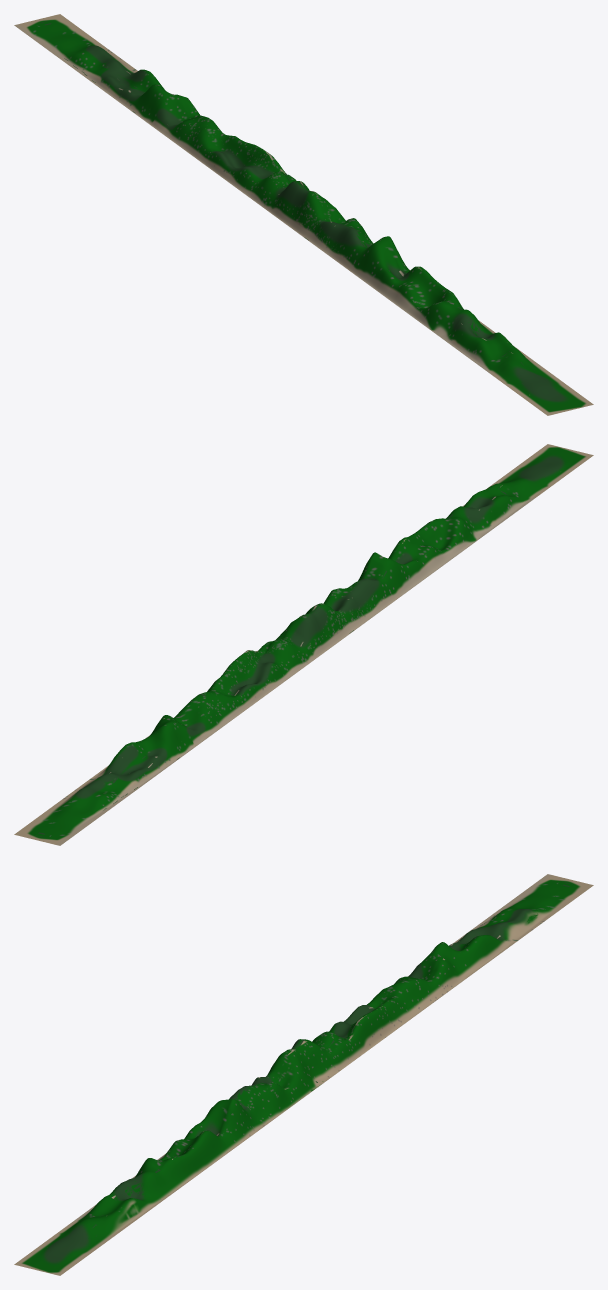
Rendered from mtn1.glb.
3 renders of one model, top to bottom at view 1: azimuth 30°, elevation 25°; view 2: azimuth 150°, elevation 25°; view 3: azimuth 330°, elevation 25°, orthographic.
Visible parts, largest first — view 1: Landscape; view 2: Landscape; view 3: Landscape.
Boxes of the visible parts, box(x1,y1,x2,y2) form: Landscape: box(14, 14, 593, 415); Landscape: box(14, 444, 593, 845); Landscape: box(14, 874, 593, 1275).
Bounding box in the file's own units: 5 × 3.52 × 100.
1 material, 1 textured.
